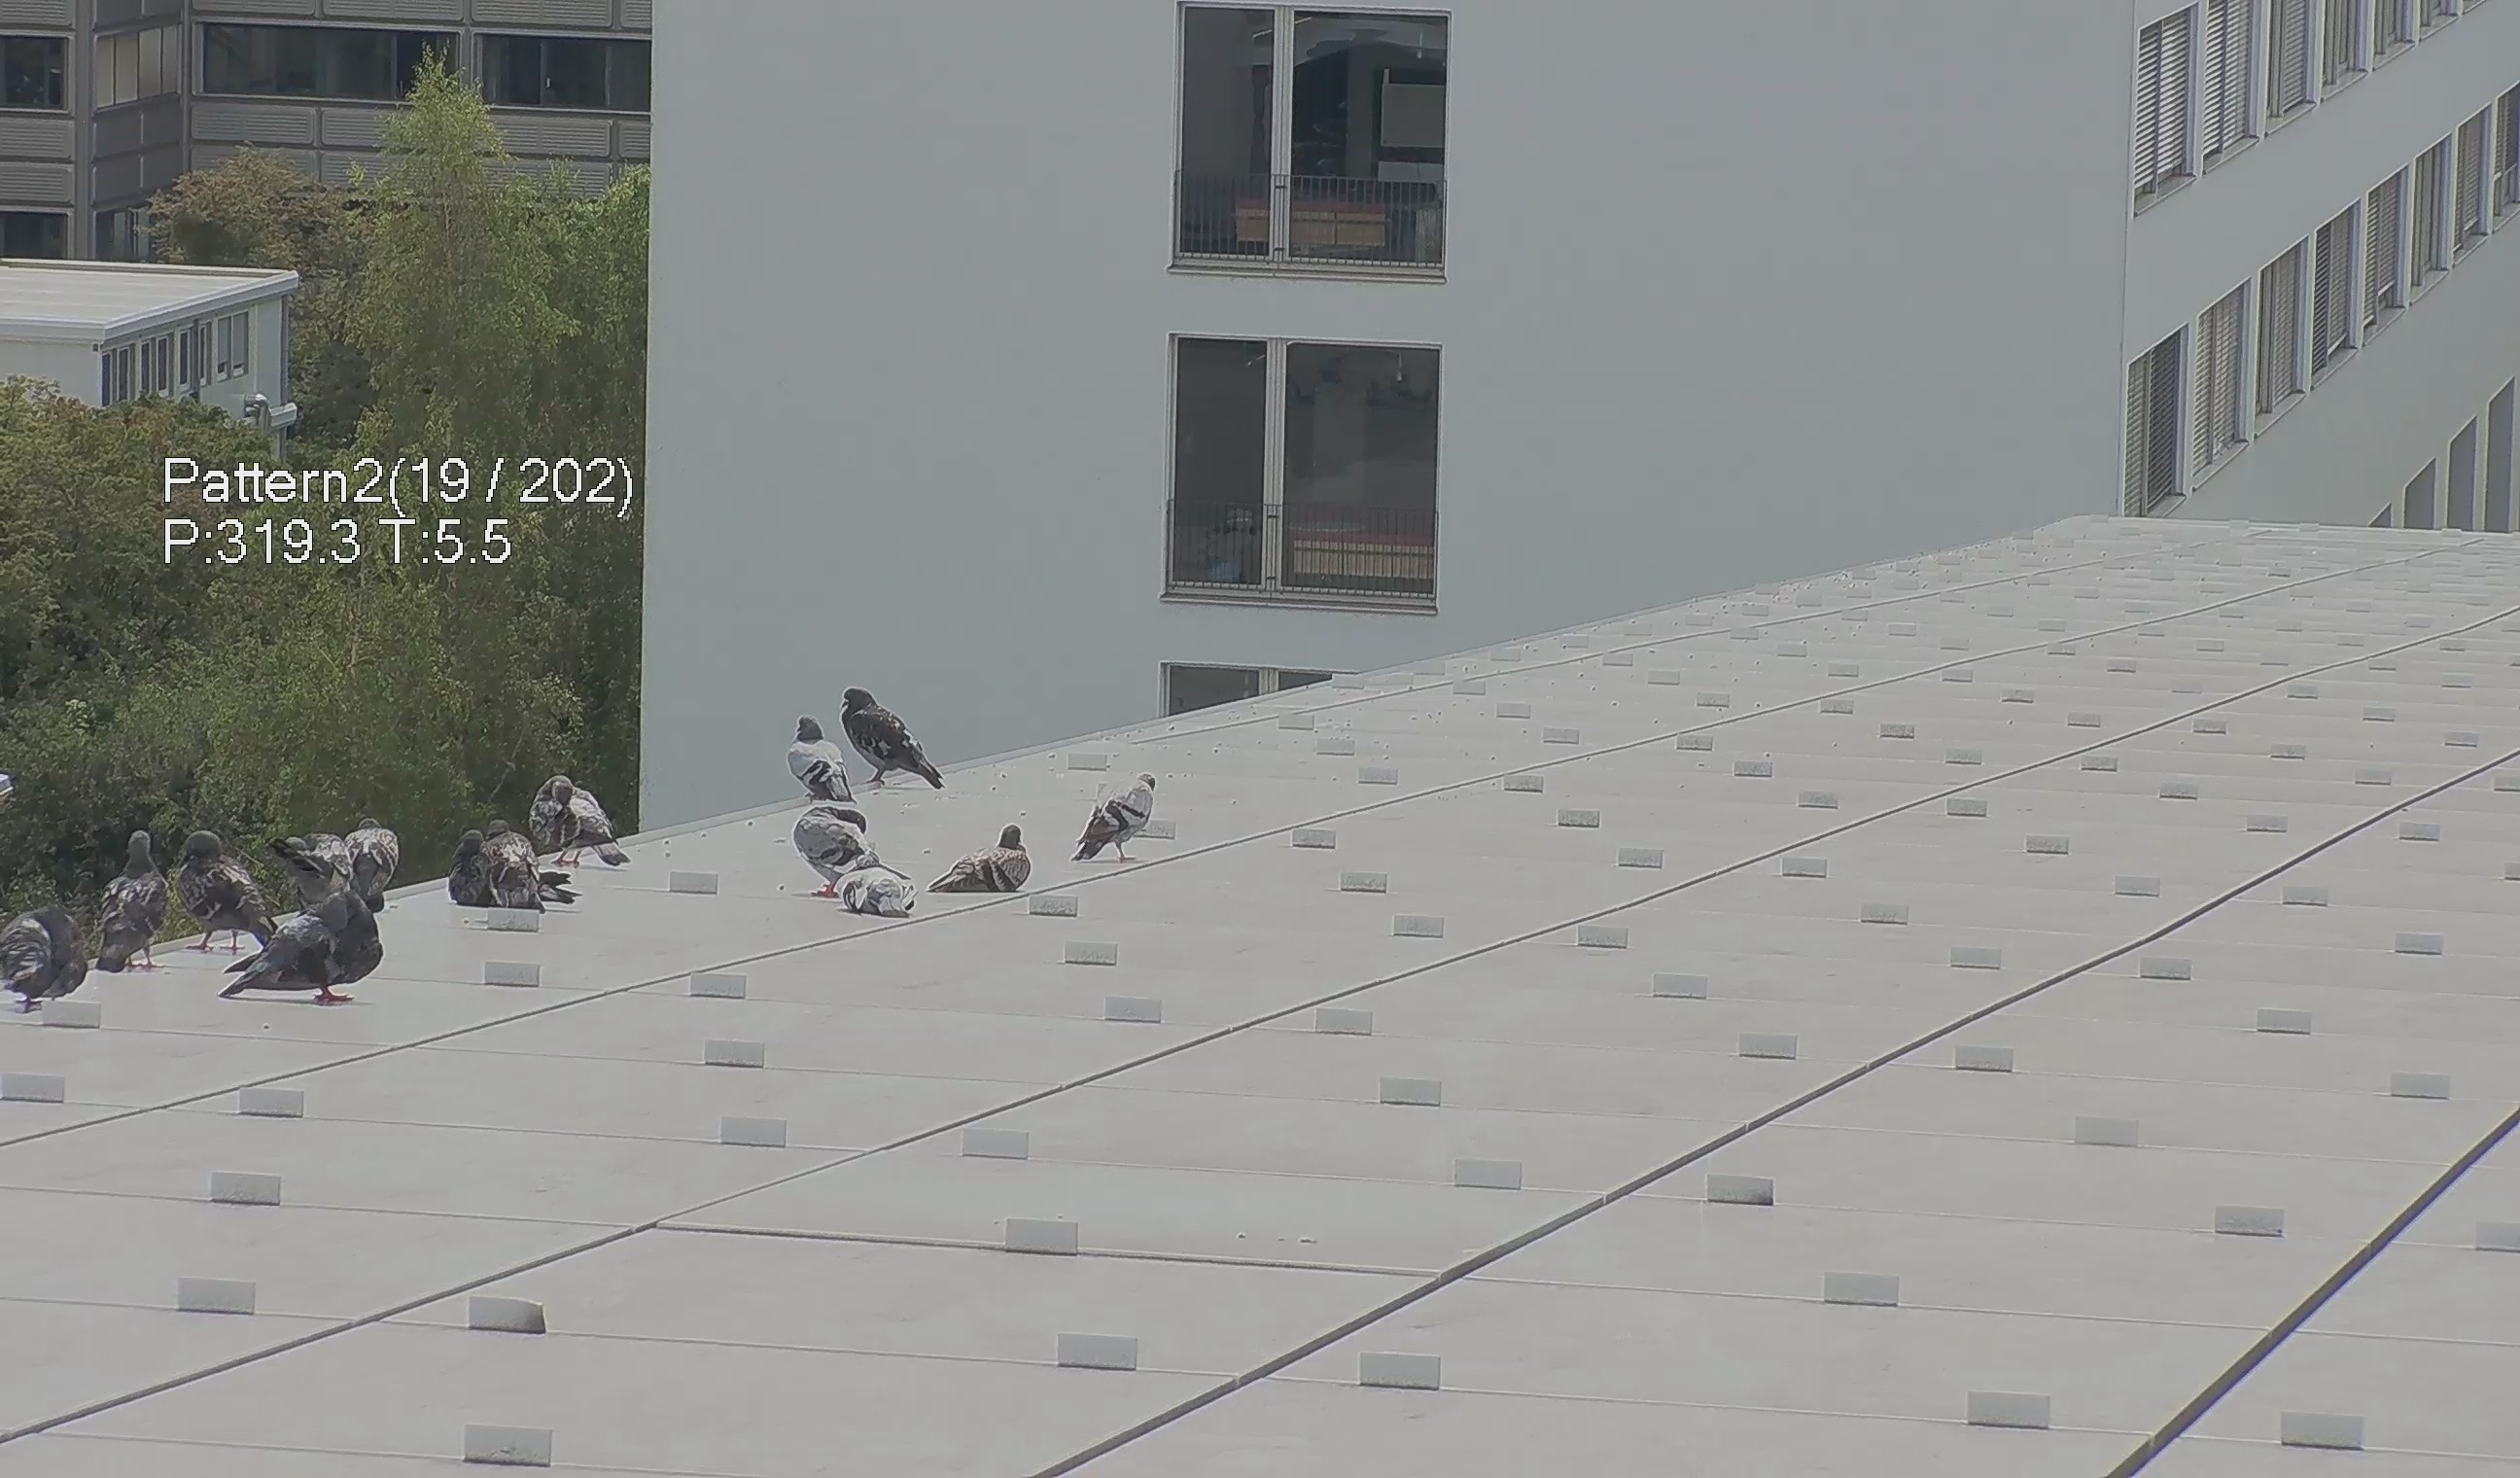Pigeon: (213, 834, 380, 1012), (165, 825, 283, 971), (2, 883, 100, 1038), (1060, 757, 1164, 885), (828, 677, 936, 795), (424, 820, 545, 922), (781, 802, 900, 903), (513, 764, 614, 869), (781, 706, 867, 825), (98, 832, 165, 984), (936, 822, 1043, 901), (343, 818, 420, 910), (832, 846, 925, 920)
